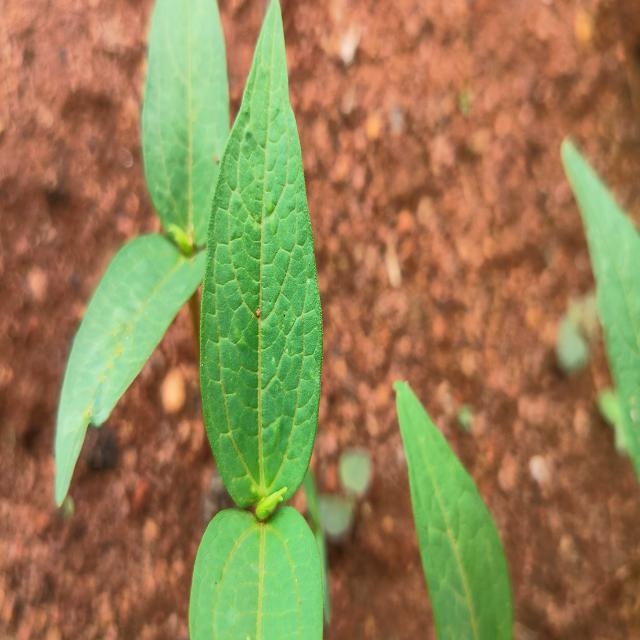Black gram_healthy: (201, 0, 322, 502), (54, 227, 204, 505), (393, 376, 510, 640), (143, 1, 231, 247)
